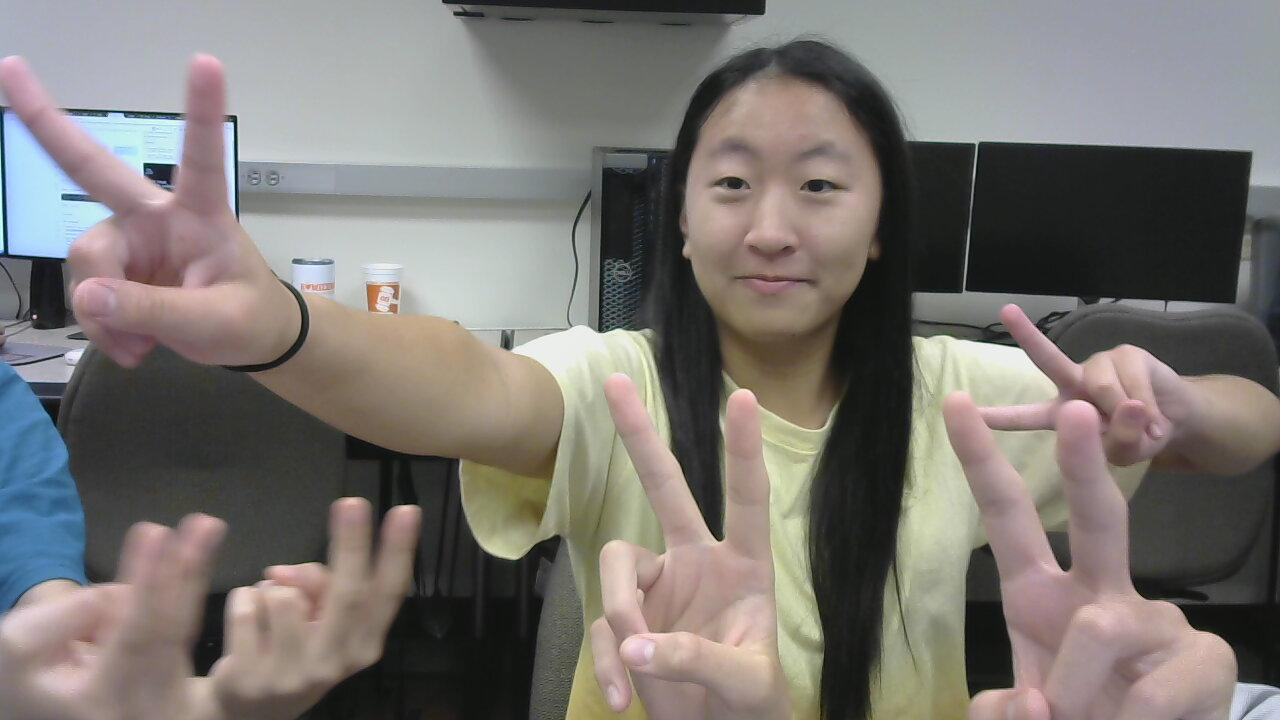peace: (926, 395, 1272, 720), (2, 42, 284, 345), (587, 357, 800, 720), (229, 478, 429, 715), (19, 503, 182, 720), (974, 305, 1210, 448)
